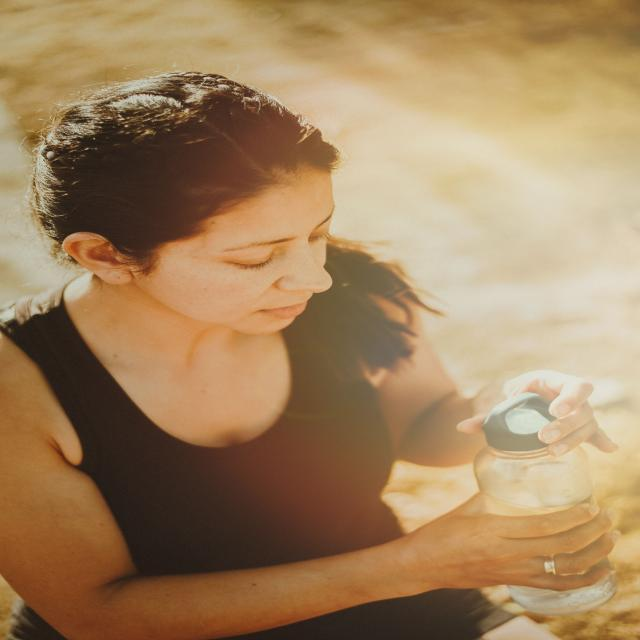Bottle: (475, 393, 595, 515)
